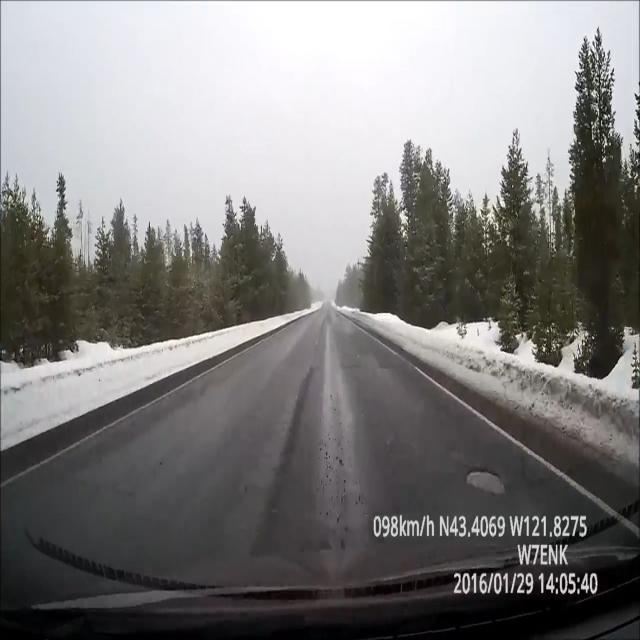pothole: (462, 454, 515, 504)
